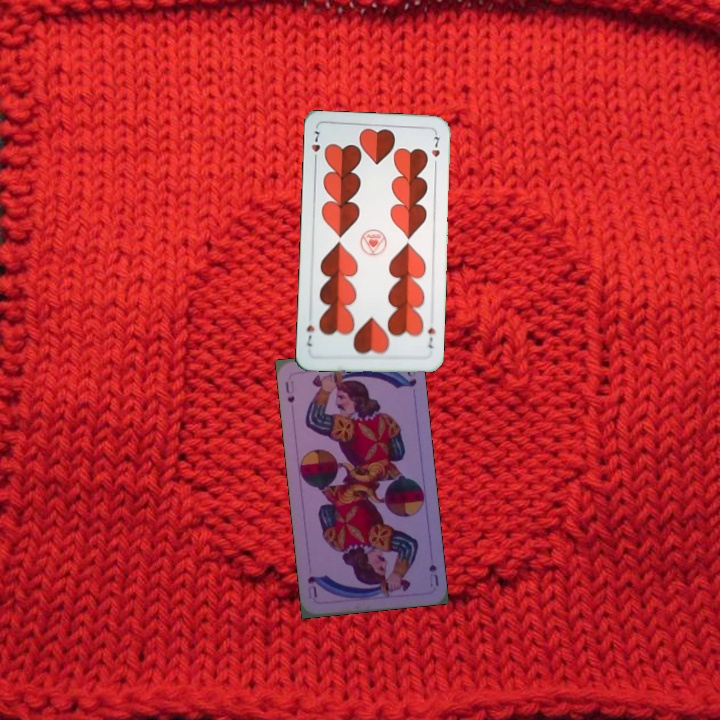H7: (307, 125, 323, 166), (424, 323, 437, 351)
SU: (425, 560, 441, 589), (281, 377, 297, 405)
